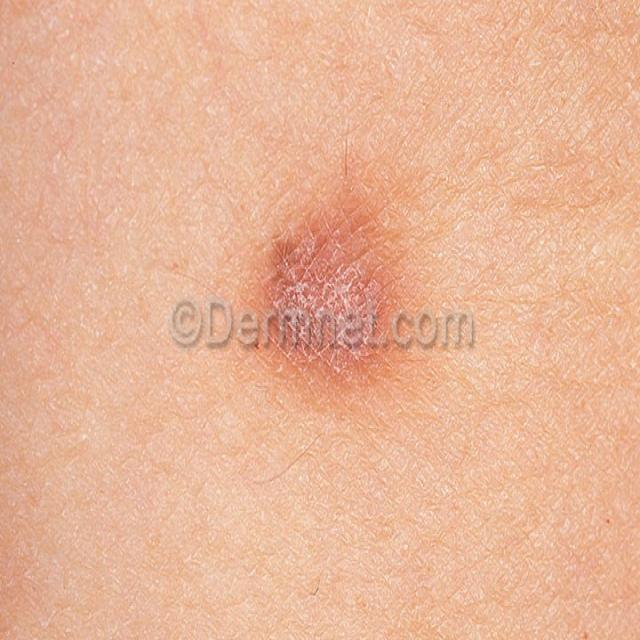Eczema: (261, 200, 410, 410)
